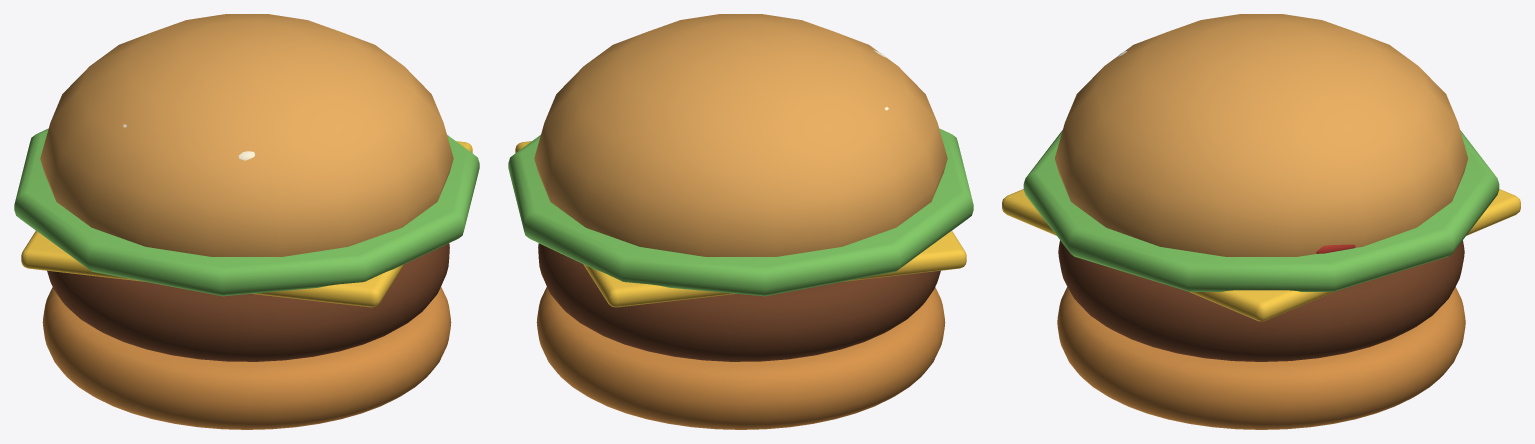
Rendered from food_burger.glb.
The picture shows the model from 3 angles, left to right: view 1: azimuth 30°, elevation 25°; view 2: azimuth 150°, elevation 25°; view 3: azimuth 270°, elevation 25°; orthographic projection.
Visible parts, largest first — view 1: burger; view 2: burger; view 3: burger.
Part boxes in pixels (box(x1,y1,x2,y2)): burger: box(14, 14, 479, 429); burger: box(508, 14, 973, 429); burger: box(1002, 14, 1520, 429).
Size of the model in its own units: 0.5019 by 0.3339 by 0.5019.
Materials: 1 (1 with a texture image).
